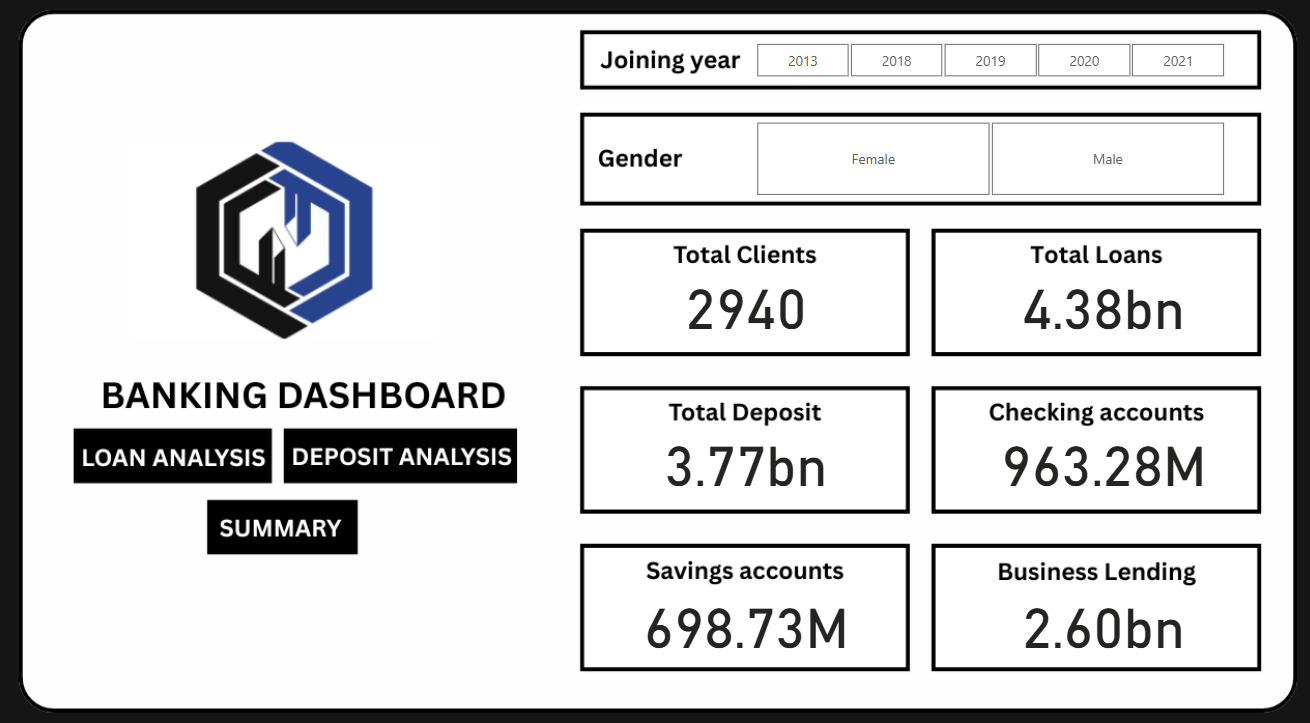

Layout of this report page (visuals, bound fields, positions):
{"tool":"powerbi","page":{"name":"Home","canvas":[1280,720],"ordinal":0},"visuals":[{"type":"card","fields":{"Values":["Count(bankingdb customers.ï»¿Client ID)"]},"box":[584.6,259.3,279.9,76.8],"z":0},{"type":"slicer","fields":{"Values":["bankingdb customers.GenderId"]},"box":[709.4,116.6,500.9,83.7],"z":1000},{"type":"card","fields":{"Values":["bankingdb customers.Total Deposit"]},"box":[584.6,410.3,279.9,76.8],"z":2000},{"type":"card","fields":{"Values":["bankingdb customers.Total Loan"]},"box":[930.4,259.3,279.9,76.8],"z":3000},{"type":"card","fields":{"Values":["Sum(bankingdb customers.Checking Accounts)"]},"box":[930.4,410.3,279.9,76.8],"z":4000},{"type":"card","fields":{"Values":["Sum(bankingdb customers.Business Lending)"]},"box":[930.4,566.7,279.9,76.8],"z":5000},{"type":"card","fields":{"Values":["Sum(bankingdb customers.Saving Accounts)"]},"box":[584.6,566.7,279.9,76.8],"z":6000},{"type":"slicer","fields":{"Values":["bankingdb customers.1 Year of Joining"]},"box":[709.4,41.2,500.9,45.3],"z":7000},{"type":"actionButton","box":[75.5,419.9,190.7,50.8],"z":8000},{"type":"actionButton","box":[285.4,419.9,218.2,50.8],"z":9000},{"type":"actionButton","box":[212.7,487.1,124.9,50.8],"z":10000}]}

Visuals, with their boxes in screenshot pixels (x1, y1, x2, y2), scaled from the page's 1280x720 canvas onto the 1310x723 screenshot:
card - Count(bankingdb customers.ï»¿Client ID): {"left": 598, "top": 260, "right": 885, "bottom": 338}
slicer - bankingdb customers.GenderId: {"left": 726, "top": 117, "right": 1239, "bottom": 201}
card - bankingdb customers.Total Deposit: {"left": 598, "top": 412, "right": 885, "bottom": 489}
card - bankingdb customers.Total Loan: {"left": 952, "top": 260, "right": 1239, "bottom": 338}
card - Sum(bankingdb customers.Checking Accounts): {"left": 952, "top": 412, "right": 1239, "bottom": 489}
card - Sum(bankingdb customers.Business Lending): {"left": 952, "top": 569, "right": 1239, "bottom": 646}
card - Sum(bankingdb customers.Saving Accounts): {"left": 598, "top": 569, "right": 885, "bottom": 646}
slicer - bankingdb customers.1 Year of Joining: {"left": 726, "top": 41, "right": 1239, "bottom": 87}
actionButton: {"left": 77, "top": 422, "right": 272, "bottom": 473}
actionButton: {"left": 292, "top": 422, "right": 515, "bottom": 473}
actionButton: {"left": 218, "top": 489, "right": 346, "bottom": 540}
